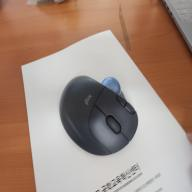mouse: (58, 74, 141, 156)
